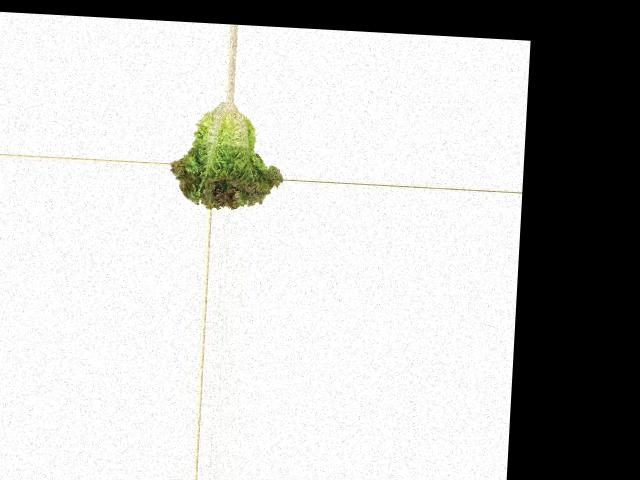lettuce: (169, 98, 287, 211)
